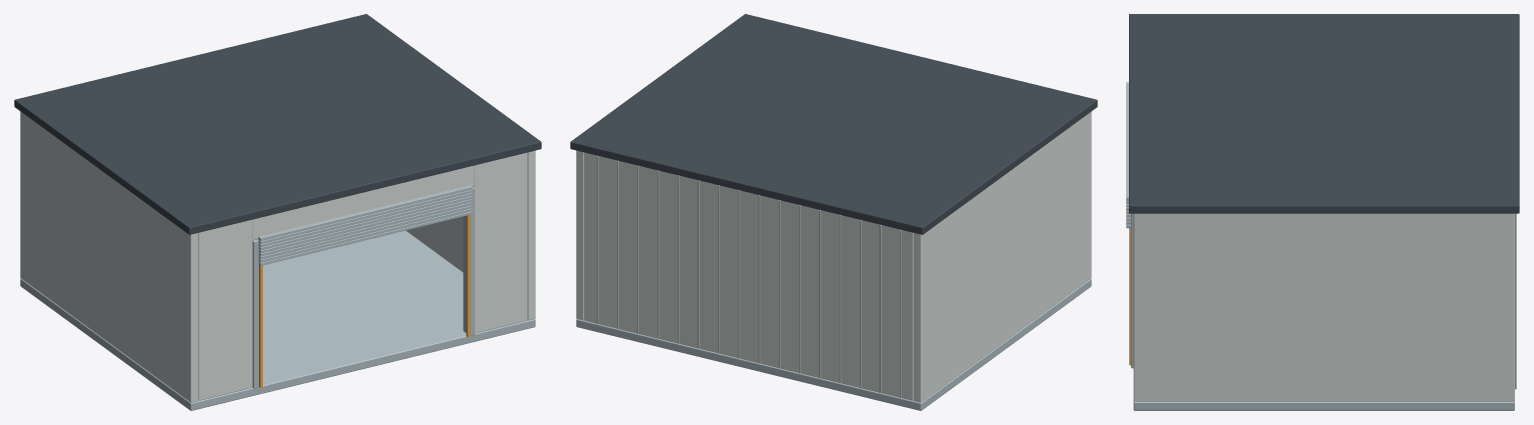
File: data-centre-infiltration-kit-data-centre-infiltration--a955b277__29272.glb
The picture shows the model from 3 angles, left to right: view 1: azimuth 30°, elevation 25°; view 2: azimuth 150°, elevation 25°; view 3: azimuth 270°, elevation 25°; orthographic projection. The views are drawn at different scales.
Parts seen in each view (by area): view 1: data-centre-infiltration-kit-operations-building; view 2: data-centre-infiltration-kit-operations-building; view 3: data-centre-infiltration-kit-operations-building.
Boxes of the visible parts, x1,y1,x2,y2 form: data-centre-infiltration-kit-operations-building: (14,14,541,410); data-centre-infiltration-kit-operations-building: (570,14,1097,410); data-centre-infiltration-kit-operations-building: (1126,14,1519,410).
Size of the model in its own units: 7.15 by 3.61 by 6.19.
